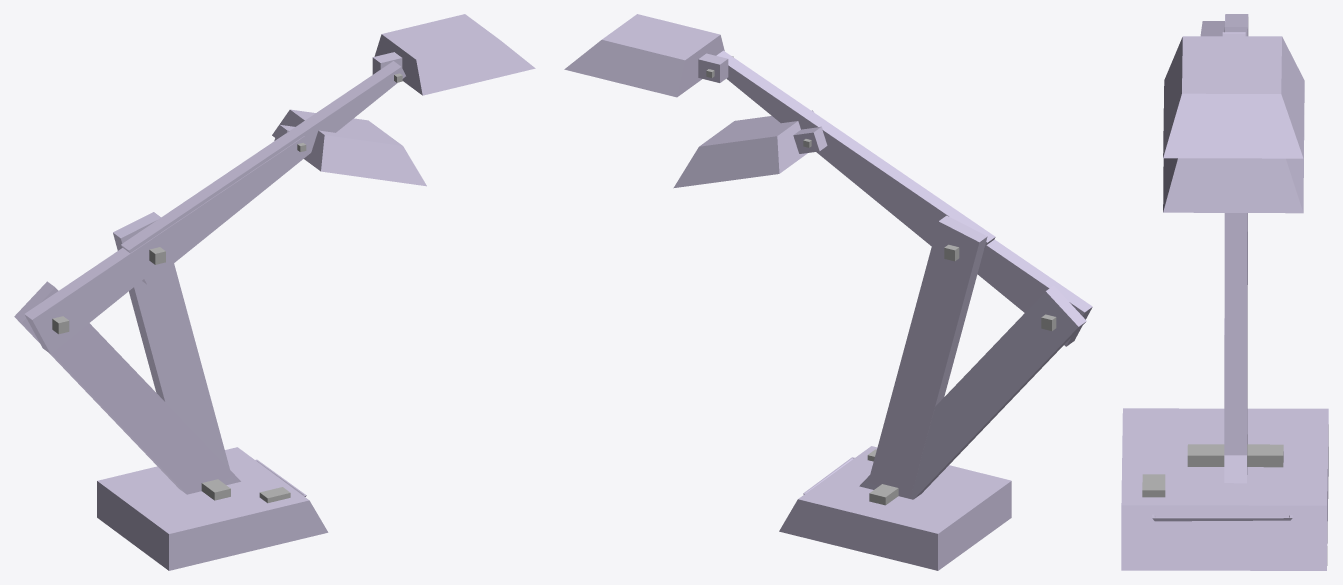
File: Lamp1.fbx
3 renders of one model, left to right at view 1: azimuth 30°, elevation 25°; view 2: azimuth 150°, elevation 25°; view 3: azimuth 270°, elevation 25°, orthographic. The views are drawn at different scales.
Visible parts, largest first — view 1: Lamp1.2, Lamp1.3, Lamp1.1; view 2: Lamp1.3, Lamp1.2, Lamp1.1; view 3: Lamp1.3, Lamp1.1, Lamp1.2, Lamp1.4.
Part boxes in pixels (x1,y1,x2,y2): Lamp1.2: [14, 109, 426, 494]; Lamp1.3: [97, 212, 328, 570]; Lamp1.1: [121, 14, 535, 284]; Lamp1.3: [779, 215, 1011, 570]; Lamp1.2: [673, 110, 1092, 499]; Lamp1.1: [564, 14, 995, 248]; Lamp1.3: [1121, 14, 1328, 570]; Lamp1.1: [1163, 23, 1304, 158]; Lamp1.2: [1163, 15, 1304, 483]; Lamp1.4: [1152, 514, 1292, 521].
Bounding box in the file's own units: 86.05 × 71.88 × 22.15.
